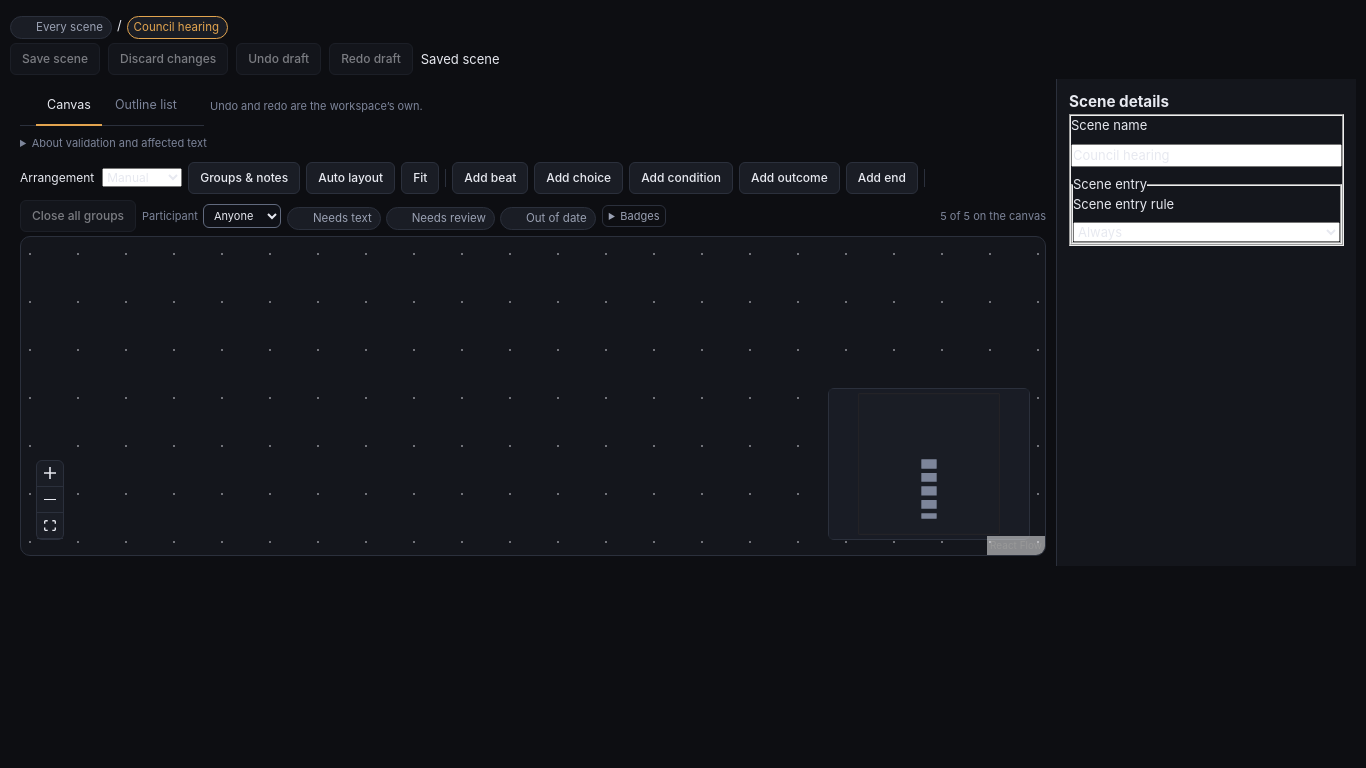
Scenario: a structural edit cannot lose a line of dialogue › refuses to rewire a beat to its own choices, and says why
Click the button "Outline list" at coordinates (146, 107), box 104,87 -> 188,126
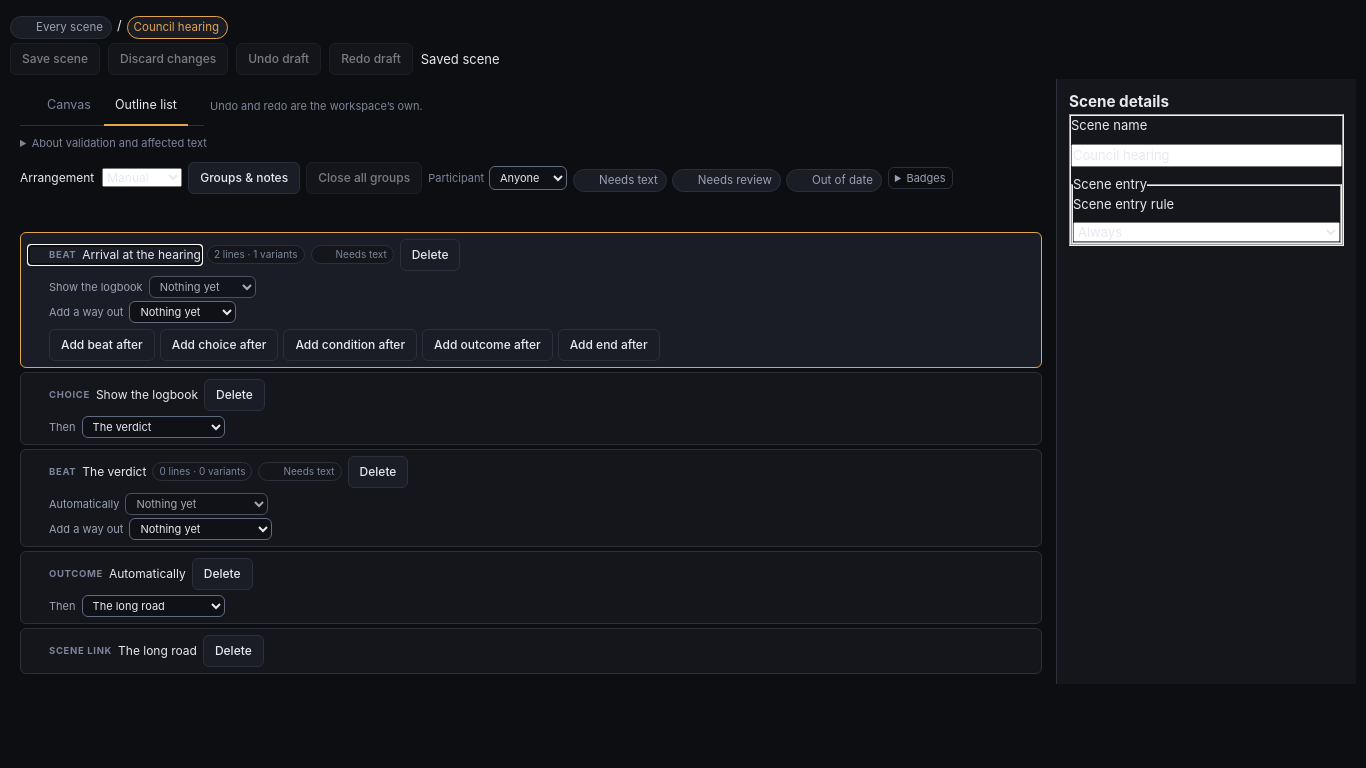
Now the list named "Council hearing outline" is shown, box 20,232 -> 1046,674
Now the dropdown named "Arrival at the hearing — Show the logbook leads to" is disabled, box 149,276 -> 256,298
